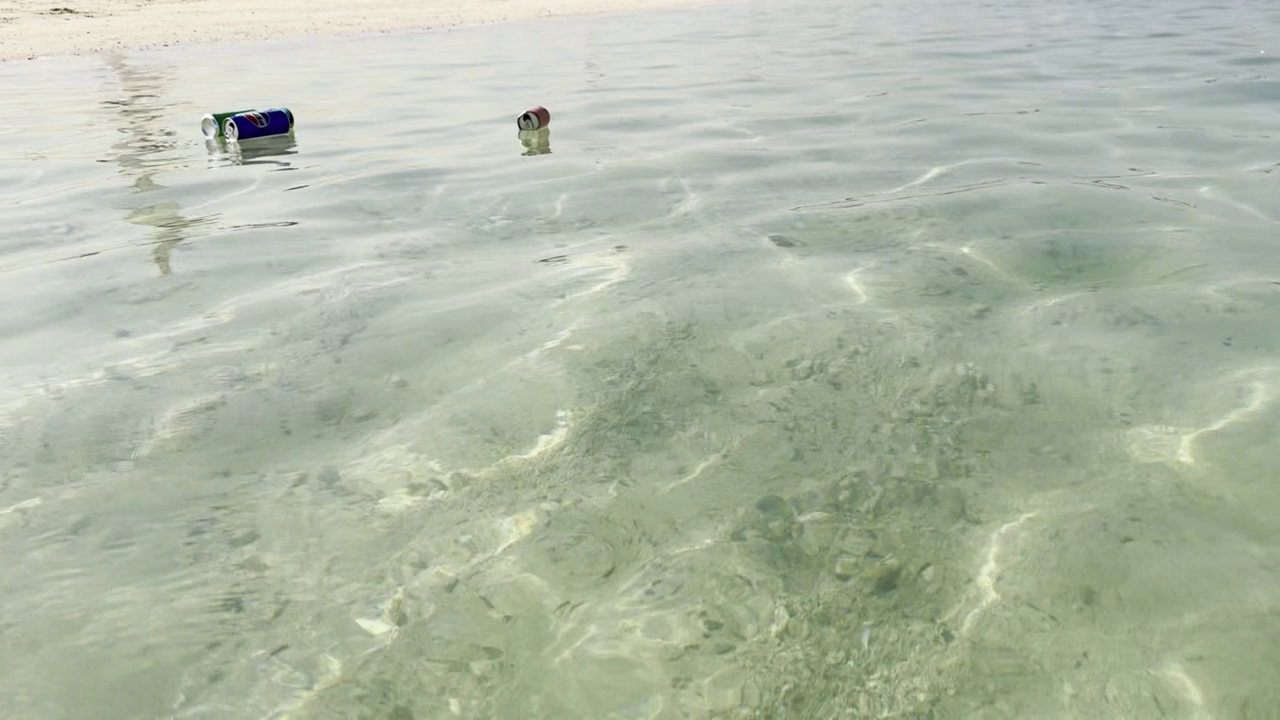debris: (195, 100, 269, 142), (222, 105, 295, 147), (512, 100, 557, 141)
